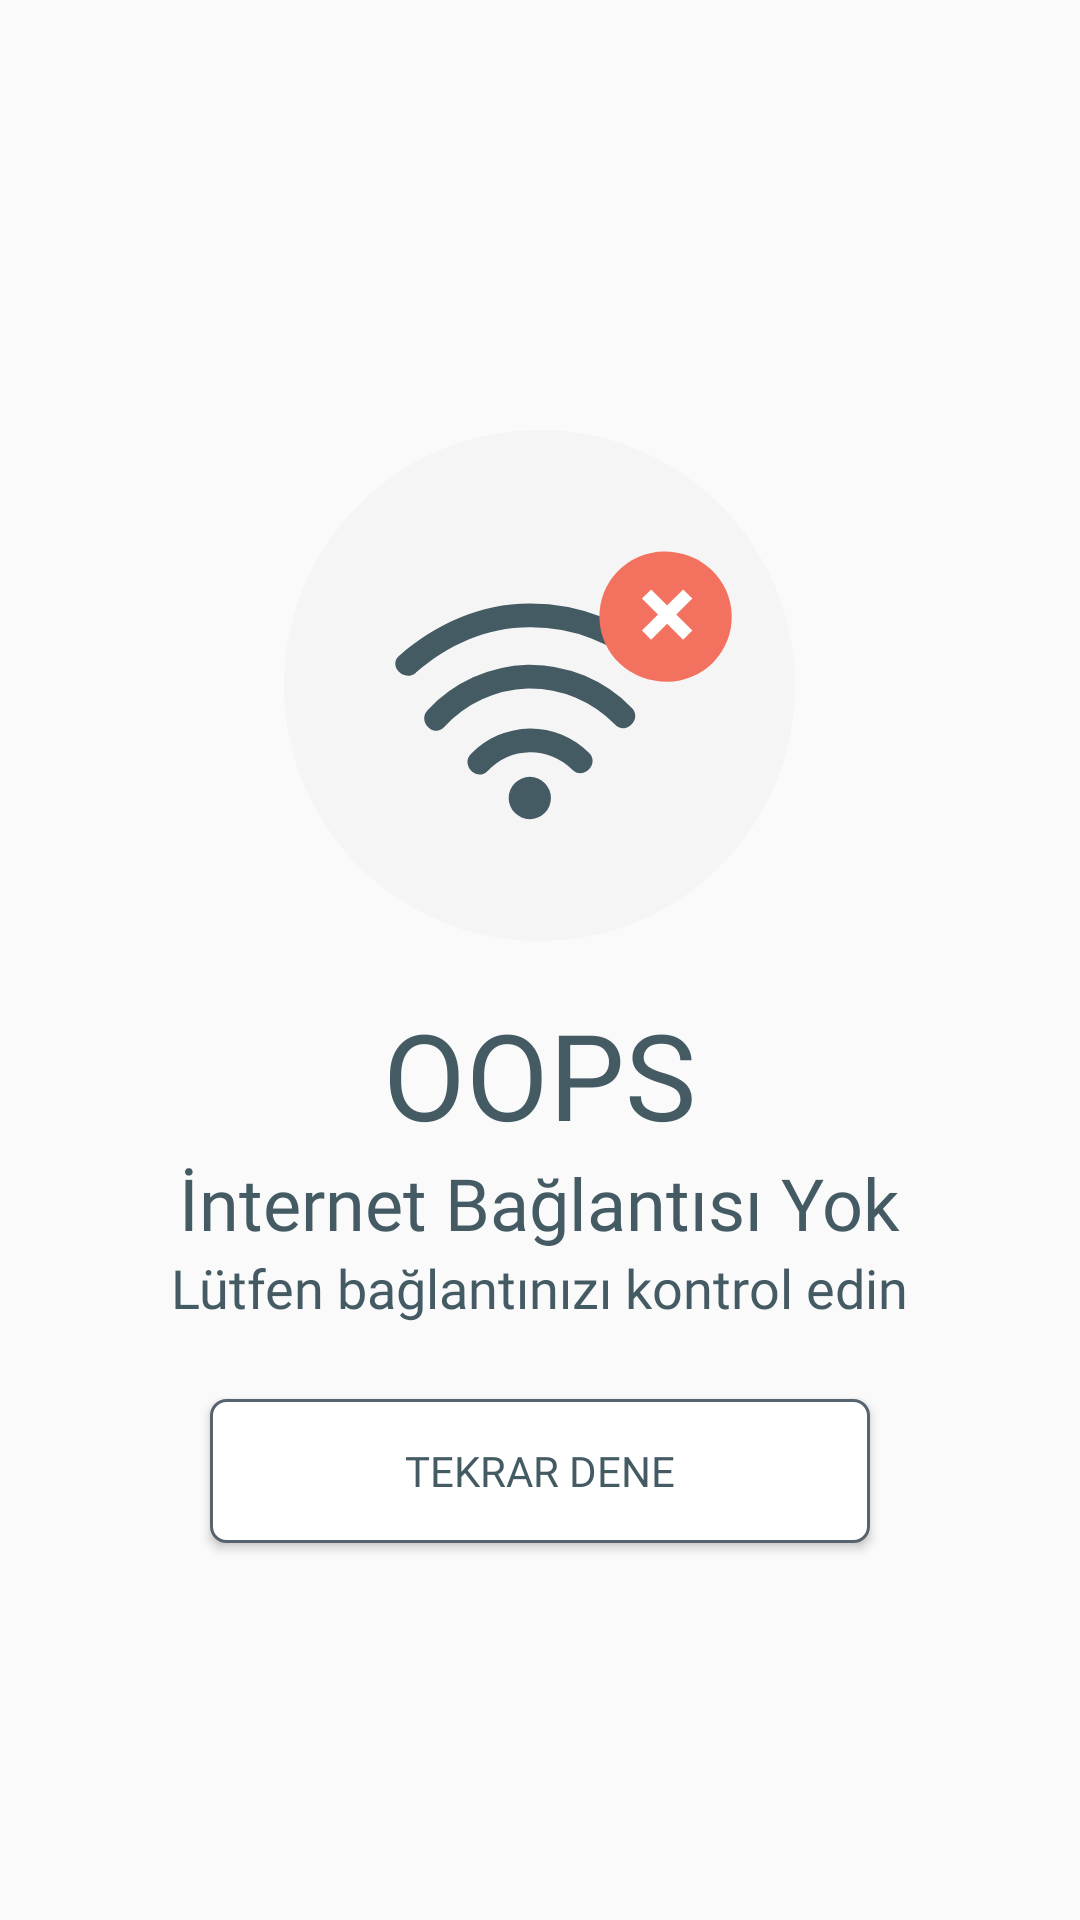

Icons on this 1080×1920 Android screen, each with the point to tap as (x=x, y=y):
no connection: (x=563, y=685)
